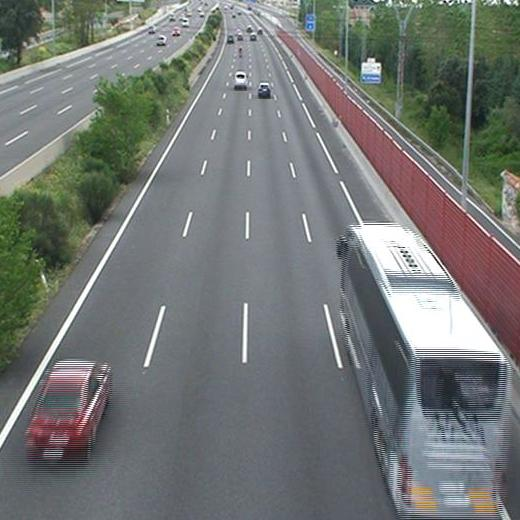bus: (341, 224, 506, 513)
car: (26, 361, 109, 458), (234, 73, 248, 88), (258, 82, 271, 97), (226, 35, 234, 43), (250, 32, 257, 40)
motorcycle: (237, 45, 243, 56)
